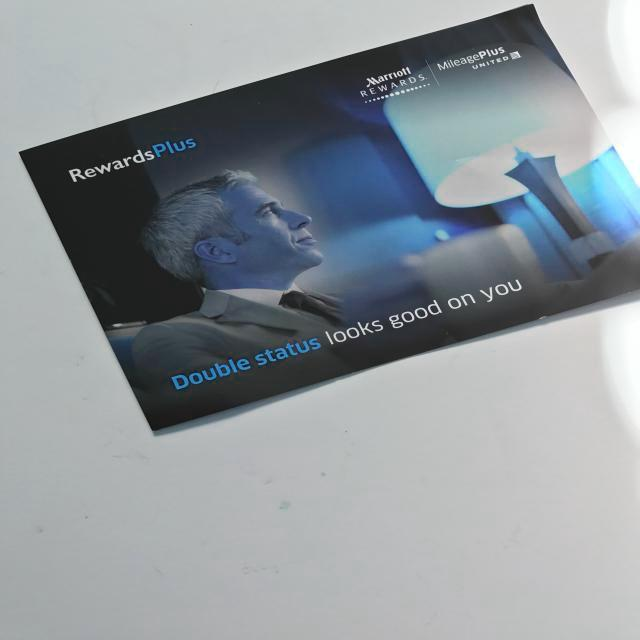paper: (15, 3, 640, 437)
